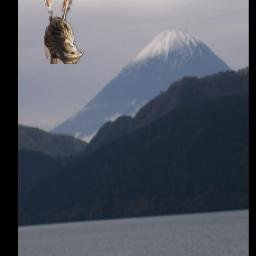Sparrow: (43, 0, 84, 65)
